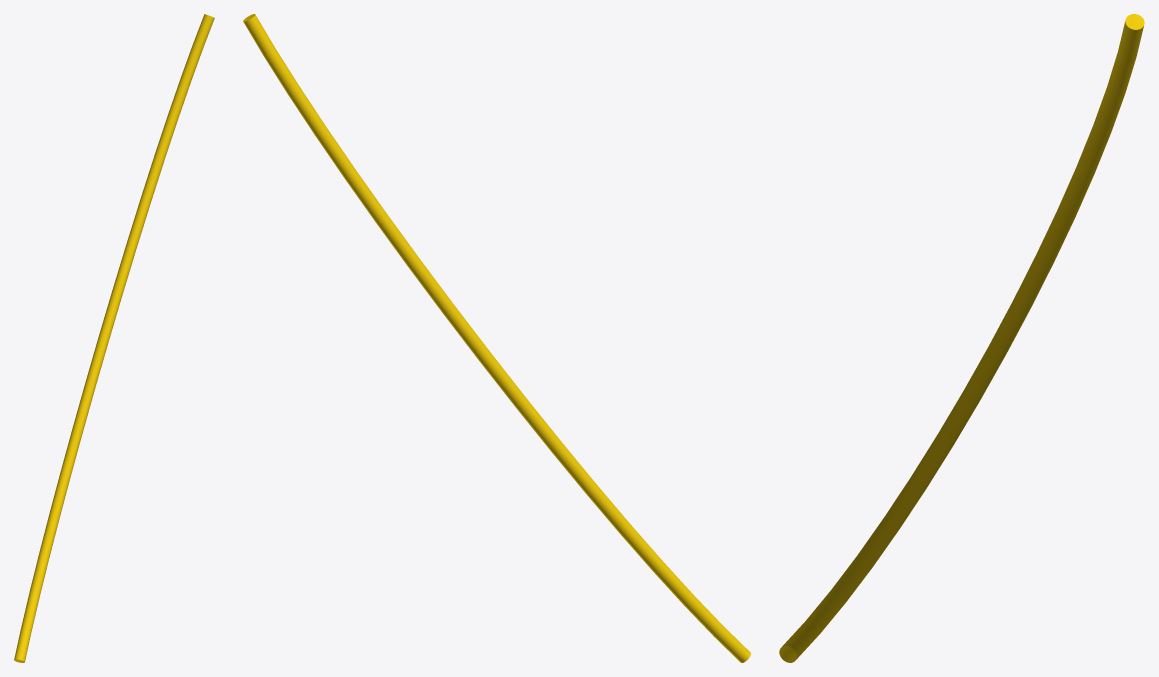
The model's file is Event_421127236_track_56.fbx.
The picture shows the model from 3 angles, left to right: view 1: azimuth 30°, elevation 25°; view 2: azimuth 150°, elevation 25°; view 3: azimuth 270°, elevation 25°; orthographic projection. The views are drawn at different scales.
Parts seen in each view (by area): view 1: Model; view 2: Model; view 3: Model.
Part boxes in pixels (box(x1,y1,x2,y2)): Model: box(14, 14, 214, 662); Model: box(243, 14, 750, 662); Model: box(779, 14, 1144, 662).
Size of the model in its own units: 1.24 by 2.02 by 0.7499.
